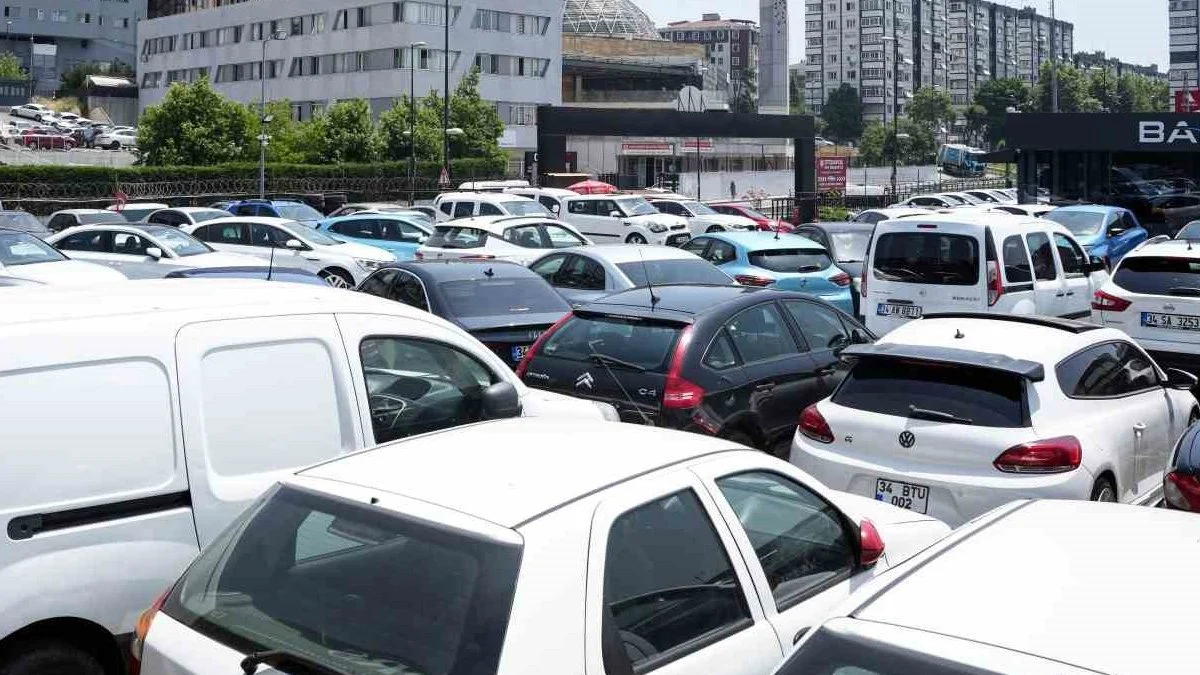Car: (0, 278, 619, 675), (133, 419, 948, 675), (790, 313, 1200, 526), (773, 500, 1200, 675), (518, 285, 873, 456), (860, 213, 1106, 335), (358, 261, 570, 368), (1091, 234, 1200, 378), (678, 231, 855, 319), (181, 216, 395, 288), (46, 224, 272, 281), (528, 244, 735, 303), (416, 216, 592, 265), (793, 222, 873, 320), (0, 227, 127, 285), (559, 193, 693, 247), (1042, 205, 1148, 267), (315, 214, 434, 261), (649, 199, 761, 236), (435, 191, 559, 222), (167, 267, 329, 288), (1164, 421, 1200, 513), (226, 200, 326, 228), (502, 186, 580, 221), (707, 203, 795, 232), (44, 207, 128, 234), (138, 206, 234, 228), (936, 143, 988, 176), (0, 209, 55, 240), (853, 208, 941, 227), (347, 208, 437, 225), (887, 194, 979, 210), (20, 129, 76, 150), (326, 203, 406, 217), (933, 192, 1000, 207), (93, 129, 138, 151), (990, 204, 1060, 218), (959, 189, 1017, 205), (10, 103, 55, 120), (40, 111, 85, 127), (70, 129, 102, 149), (1175, 220, 1200, 241), (56, 119, 91, 131), (3, 128, 23, 146), (103, 125, 133, 134), (61, 127, 90, 136), (991, 189, 1014, 200), (210, 201, 235, 210), (10, 121, 32, 131), (33, 125, 60, 133), (815, 137, 834, 146)
